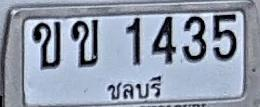1: (125, 17, 140, 65)
3: (182, 15, 206, 62)
4: (151, 15, 176, 64)
5: (212, 13, 237, 61)
A02: (32, 21, 61, 69), (71, 19, 98, 67)
CBI: (103, 75, 164, 100)
